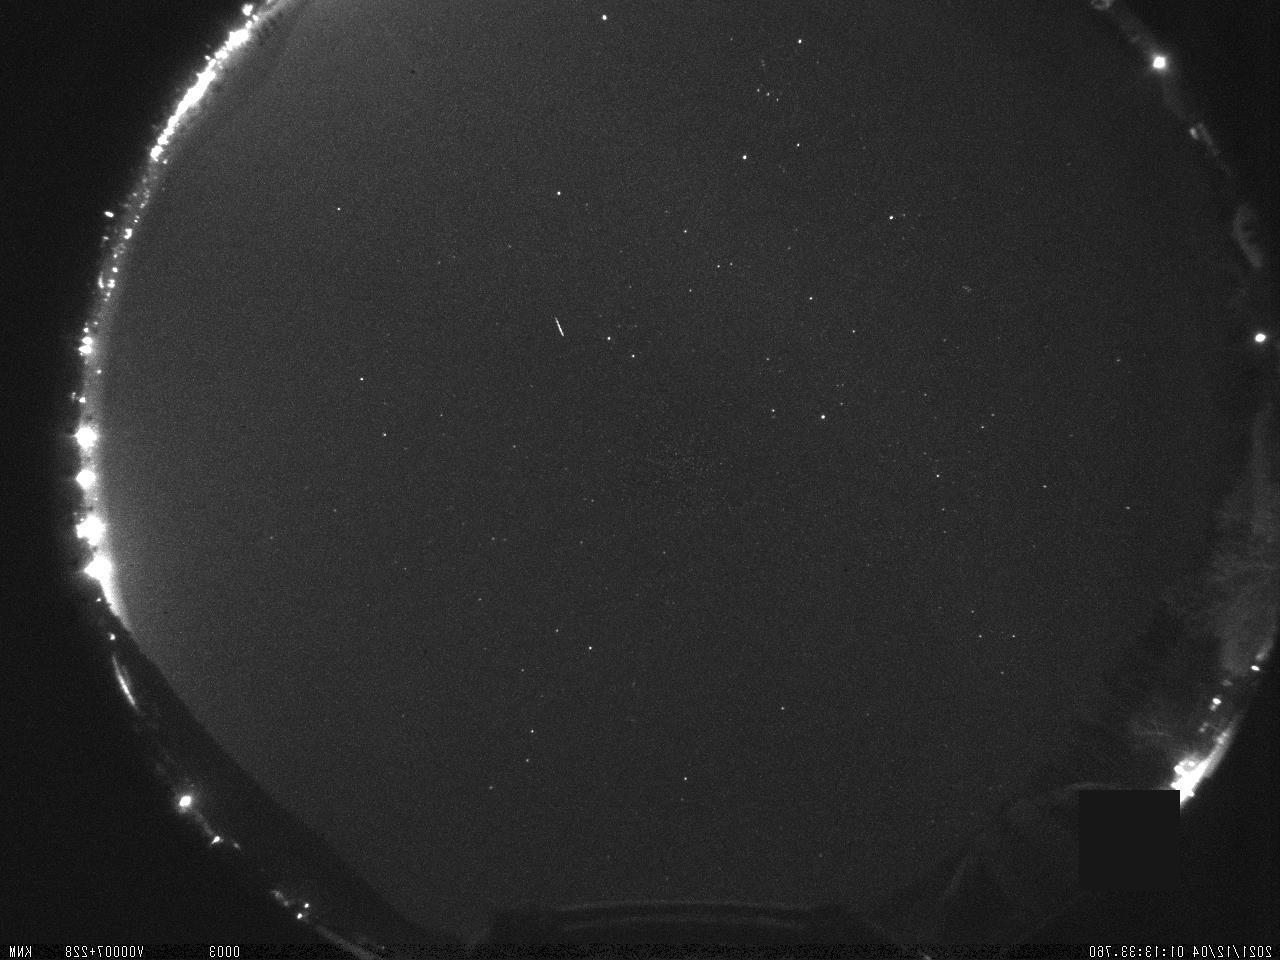meteor: (510, 291, 584, 353)
